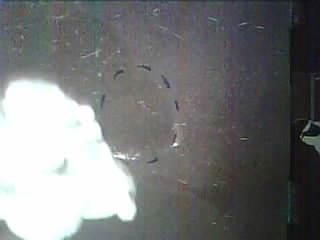paper: (0, 81, 134, 239)
